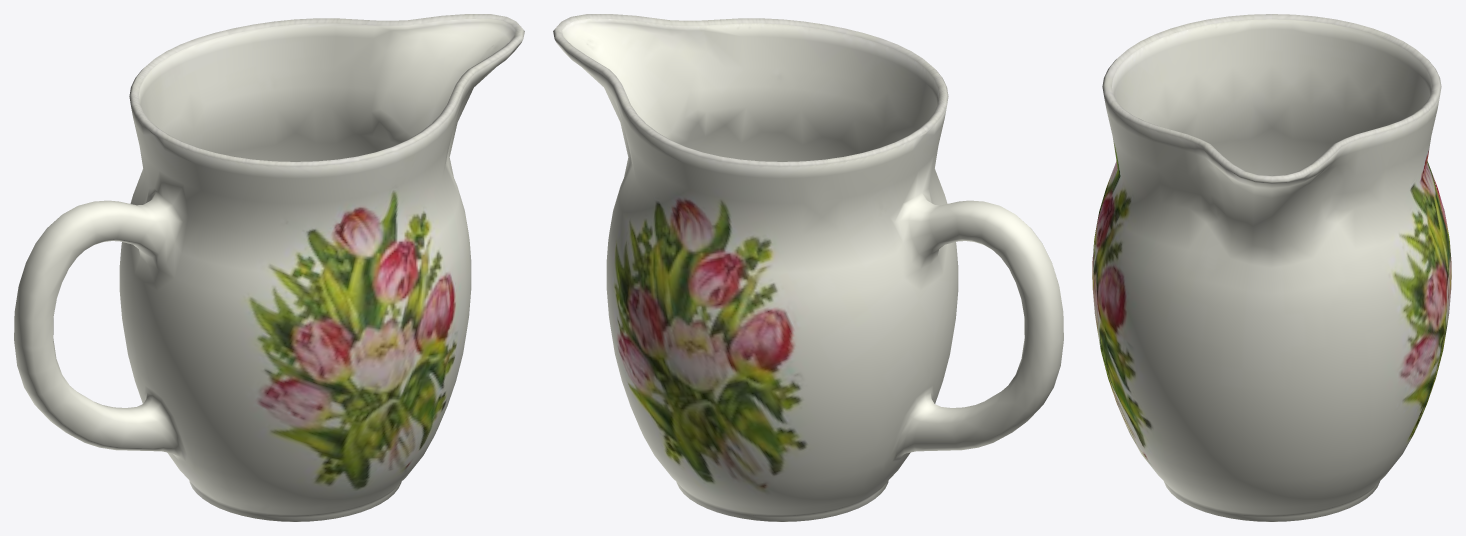
The model's file is jug_01.glb.
3 renders of one model, left to right at view 1: azimuth 30°, elevation 25°; view 2: azimuth 150°, elevation 25°; view 3: azimuth 270°, elevation 25°, orthographic. The views are drawn at different scales.
Parts seen in each view (by area): view 1: jug_01; view 2: jug_01; view 3: jug_01.
Boxes of the visible parts, x1,y1,x2,y2 form: jug_01: (14,14,524,521); jug_01: (553,14,1063,521); jug_01: (1092,14,1451,521).
Size of the model in its own units: 0.2753 by 0.2113 by 0.1675.
Materials: 1 (1 with a texture image).
